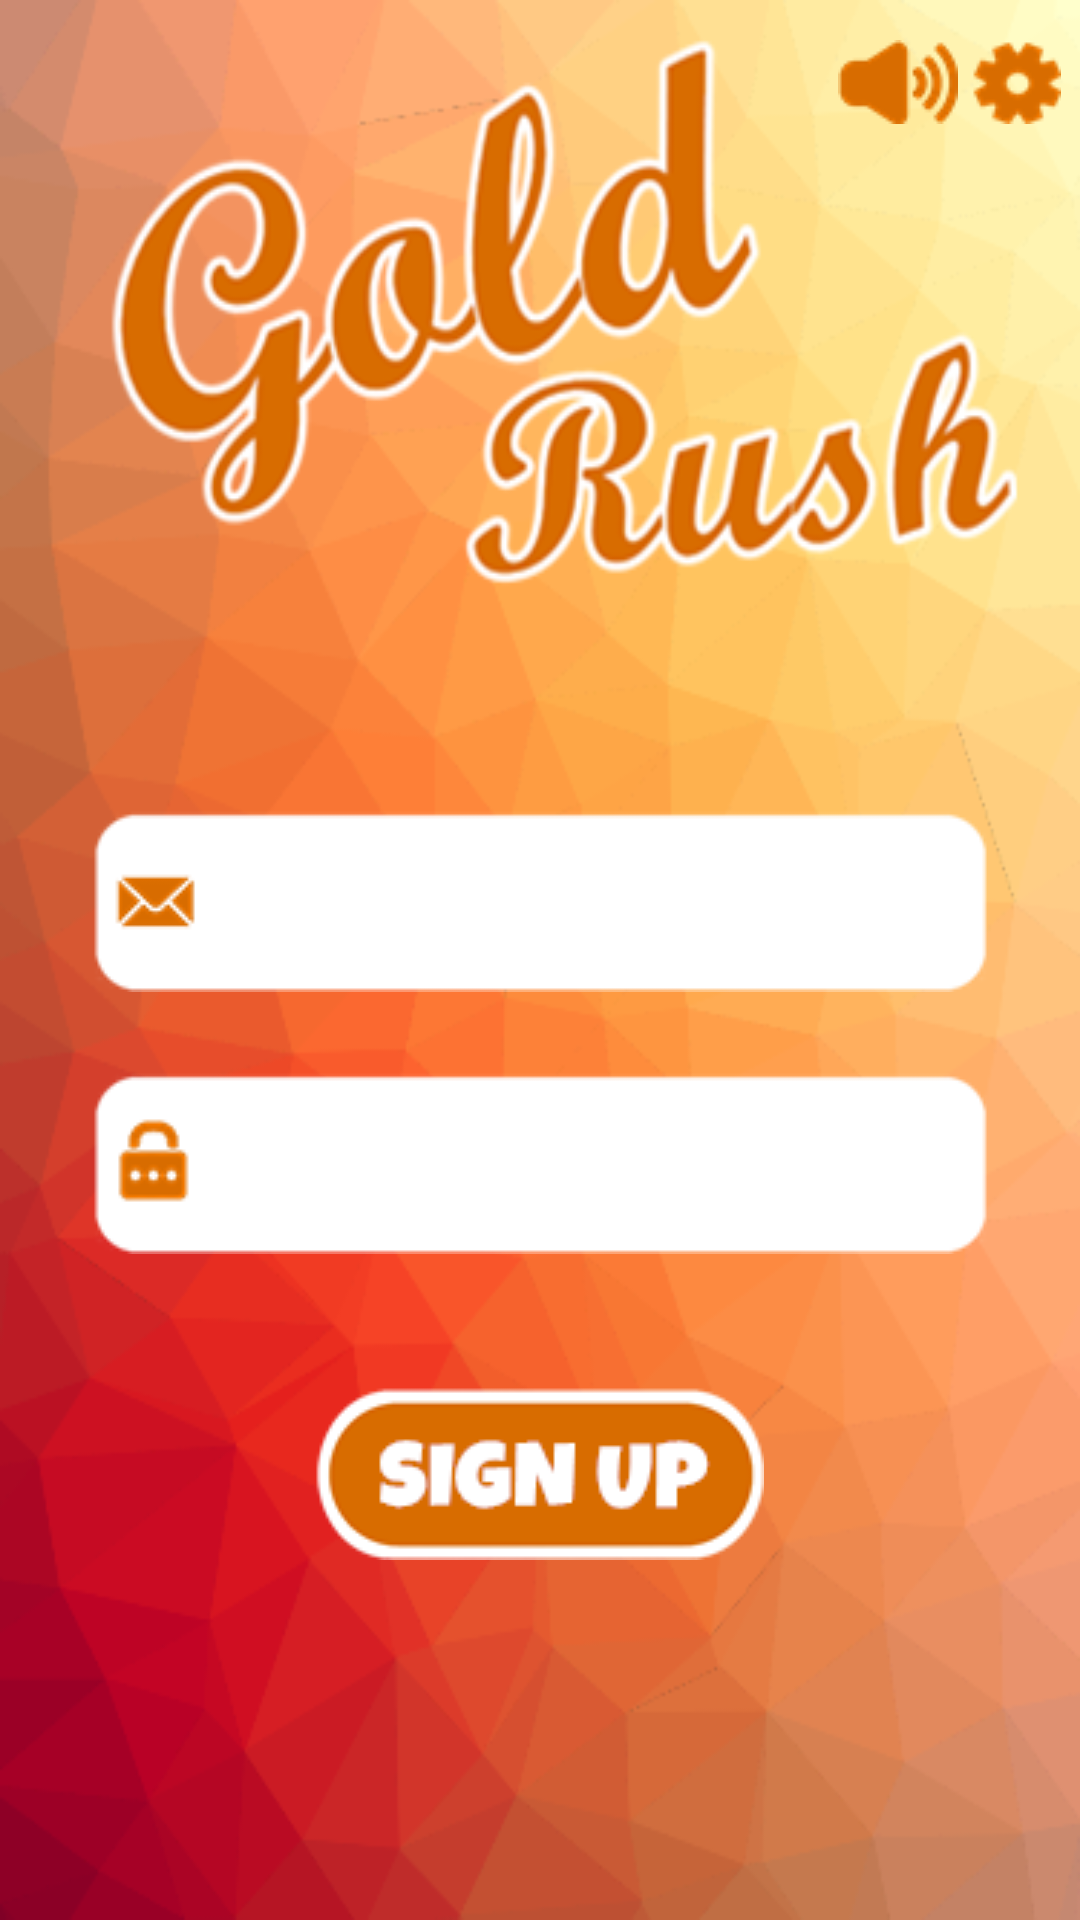

Icons on this 1080 x 1920 Android screen, each with its box as (x1, y1, x2, y2):
setting: (973, 42, 1061, 124)
sound: (838, 40, 958, 124)
